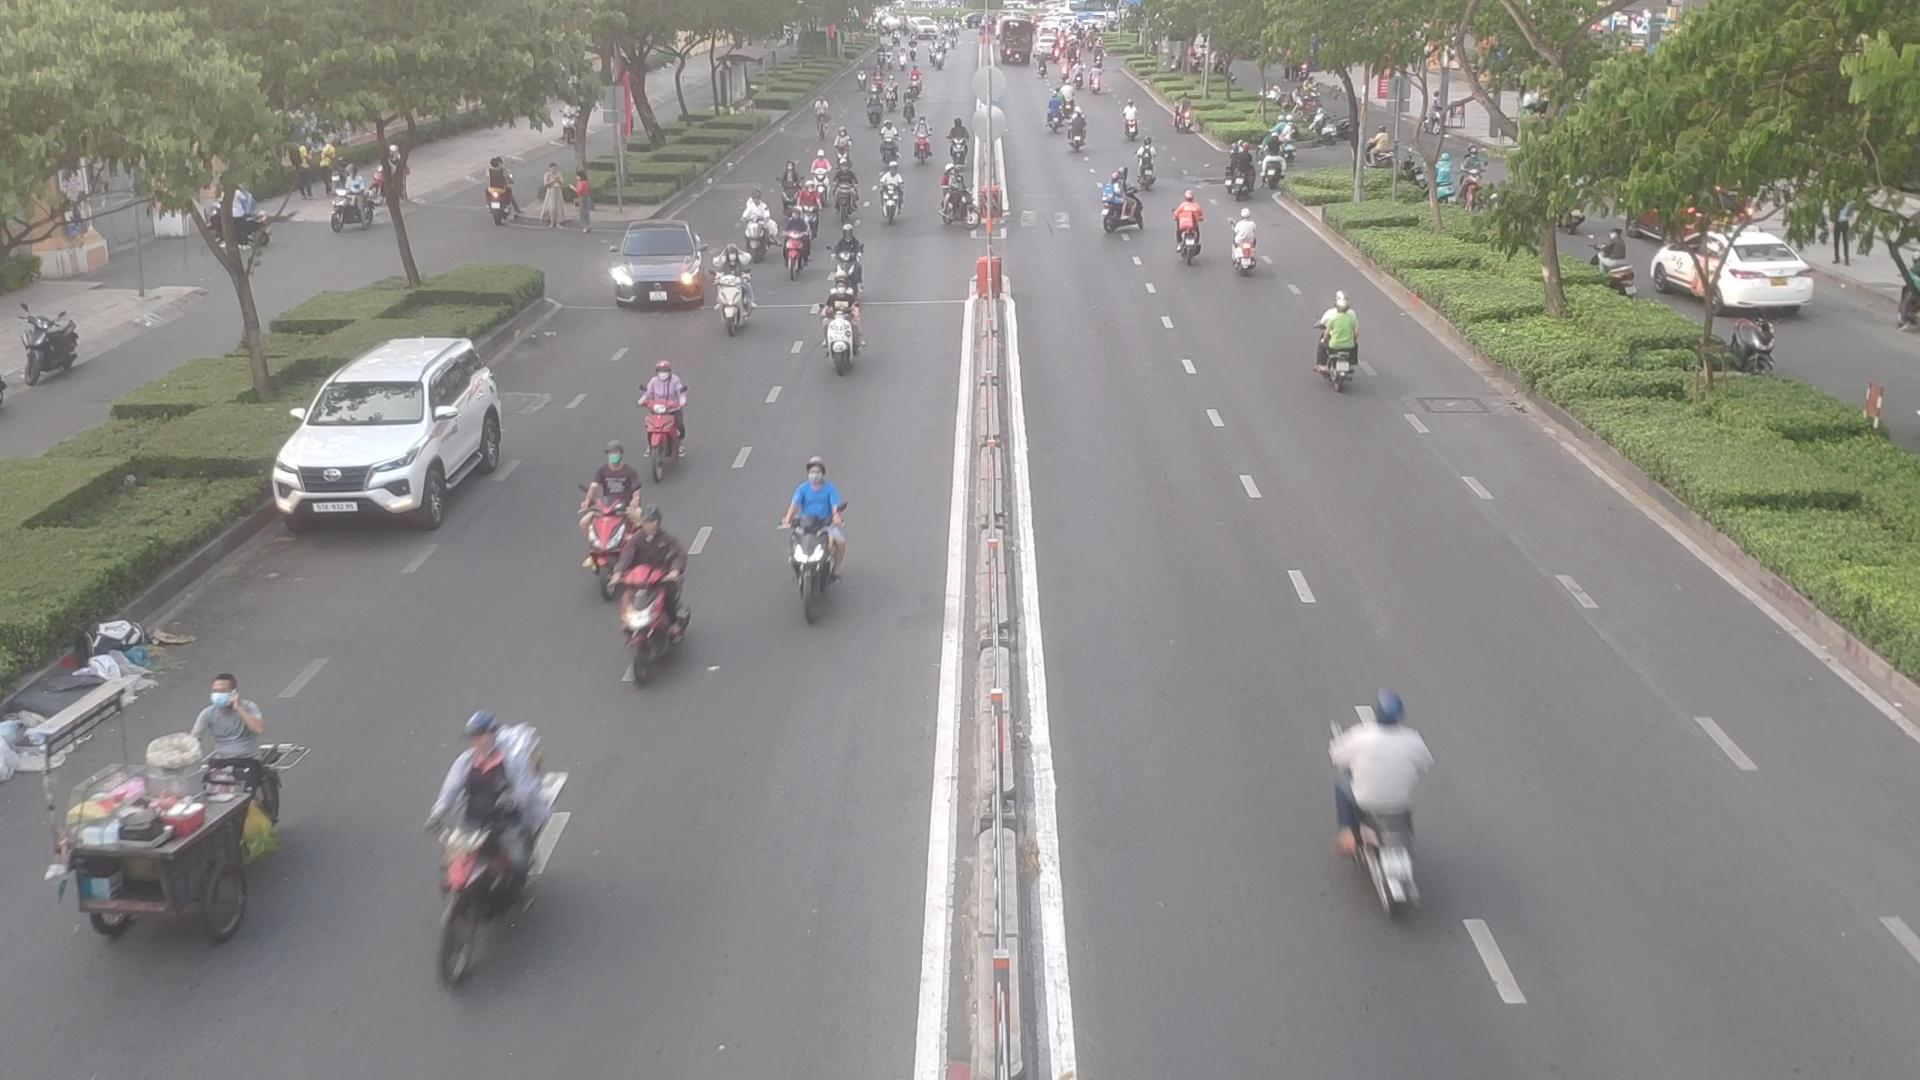car: (266, 340, 518, 529)
motorbike: (94, 680, 319, 887), (46, 746, 265, 942), (422, 717, 579, 940), (1320, 690, 1444, 902), (597, 498, 695, 692), (574, 469, 673, 597), (626, 368, 699, 477), (1313, 305, 1377, 396), (815, 295, 868, 373), (642, 255, 705, 313), (715, 274, 757, 336), (1097, 183, 1139, 239), (732, 214, 775, 266), (1232, 222, 1269, 277), (1174, 208, 1207, 266), (872, 177, 906, 227), (782, 227, 815, 278), (1135, 149, 1168, 190), (1122, 108, 1149, 140)
